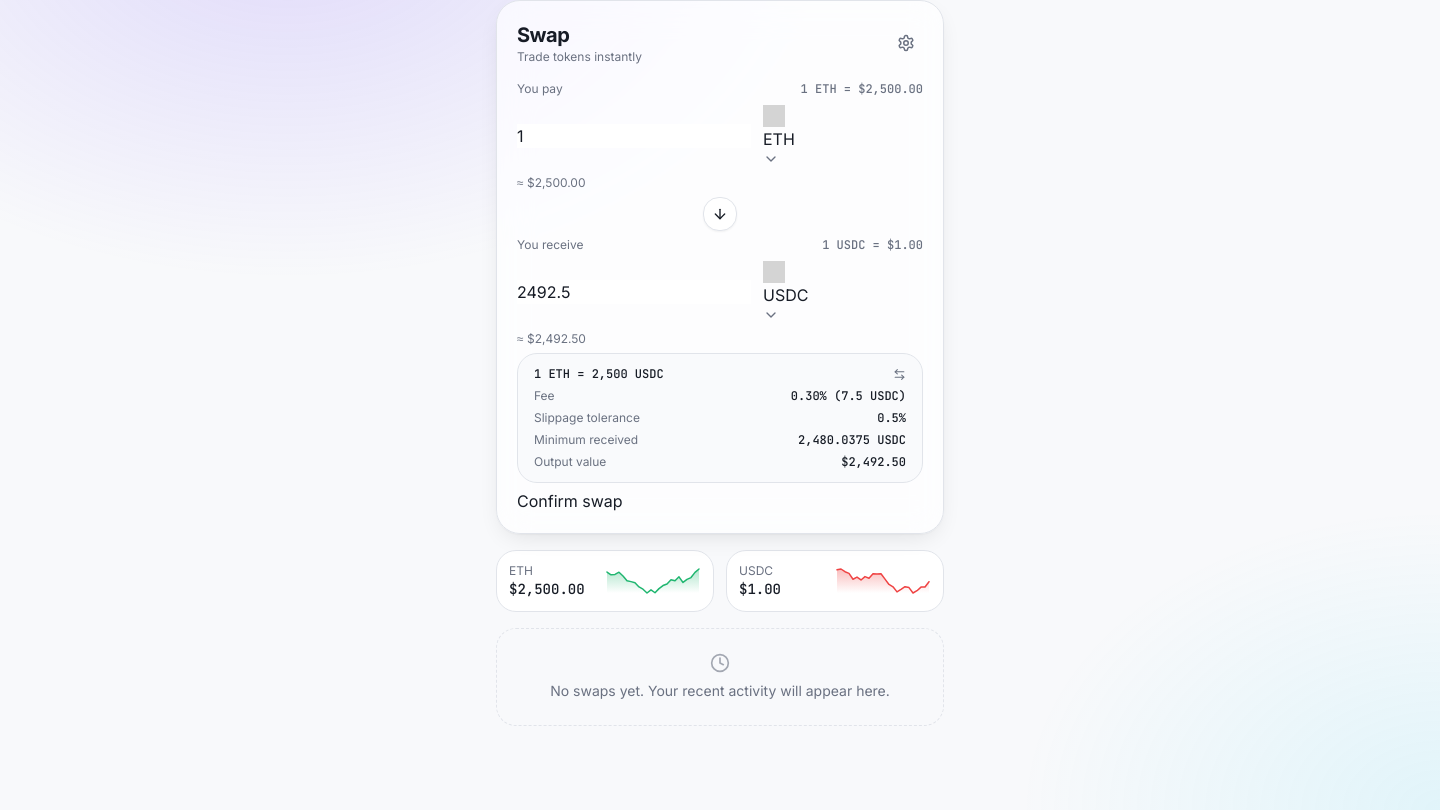
Test: SwapCard integration (en locale) › shows the form-level error when amount is cleared and disables submit
Clear the field labelled "You pay": (634, 136) [517, 124, 751, 148]
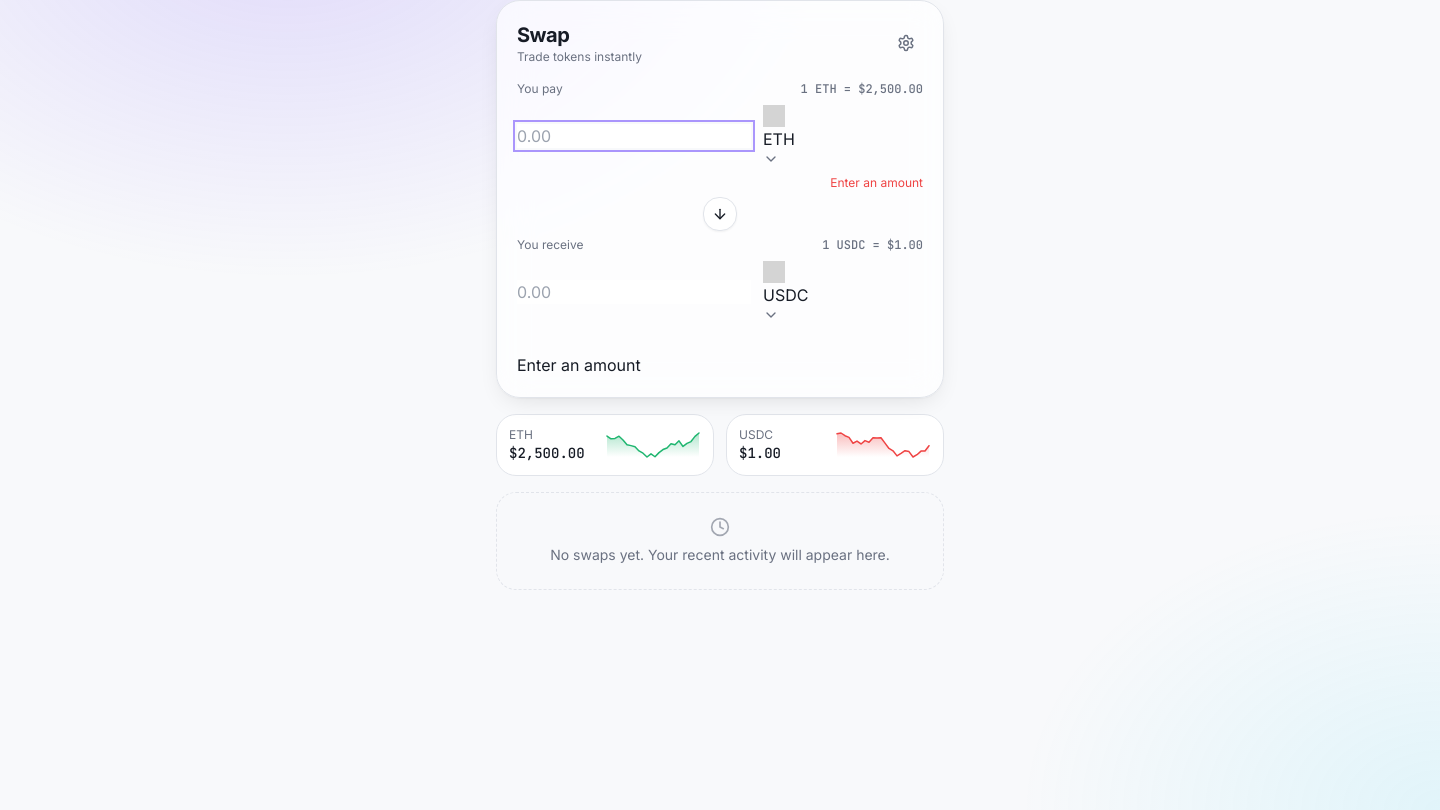
Expected: the button "Enter an amount" is disabled, [517, 353, 641, 377]
